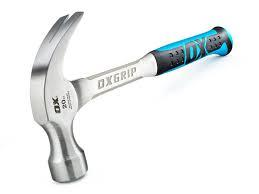hammer: (27, 9, 234, 184)
